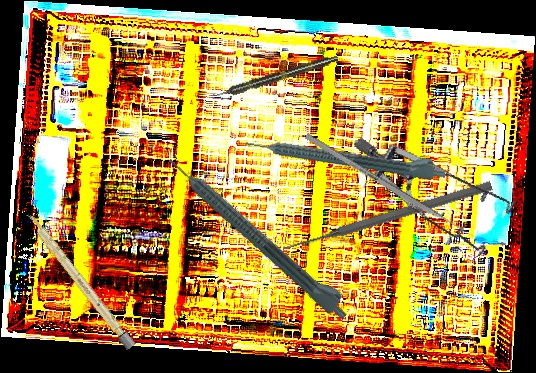Handpiece: (163, 145, 358, 325), (244, 127, 448, 183), (211, 52, 340, 102)
Pusher: (304, 133, 476, 240), (280, 178, 494, 256)
Scalpel Handle: (23, 210, 136, 351)
Speculum: (353, 90, 530, 284)
